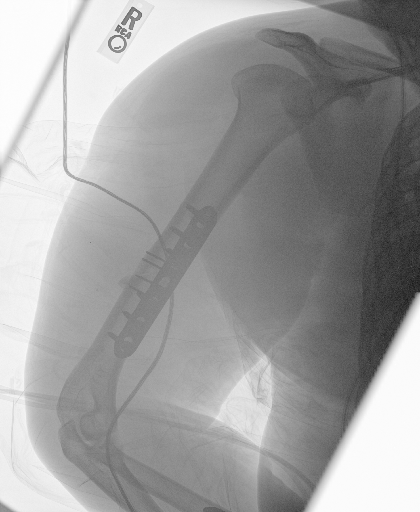implant: (112, 198, 218, 354)
